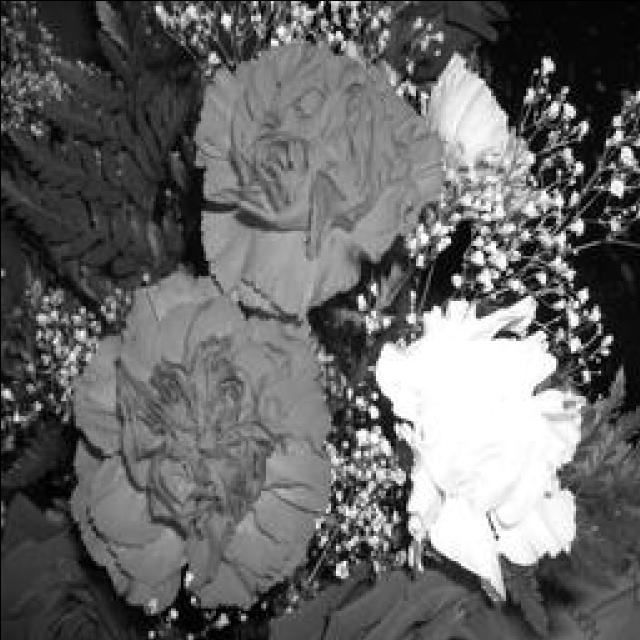carnation: (53, 285, 338, 611)
